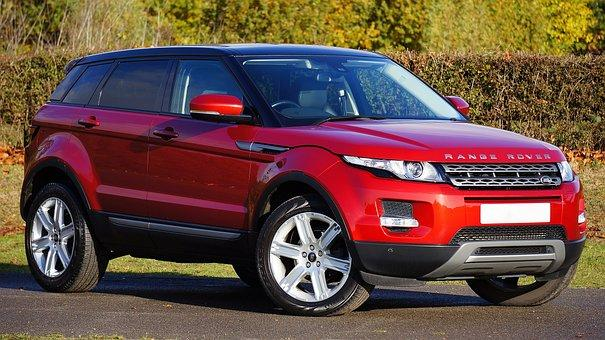range rover: (437, 145, 556, 167)
